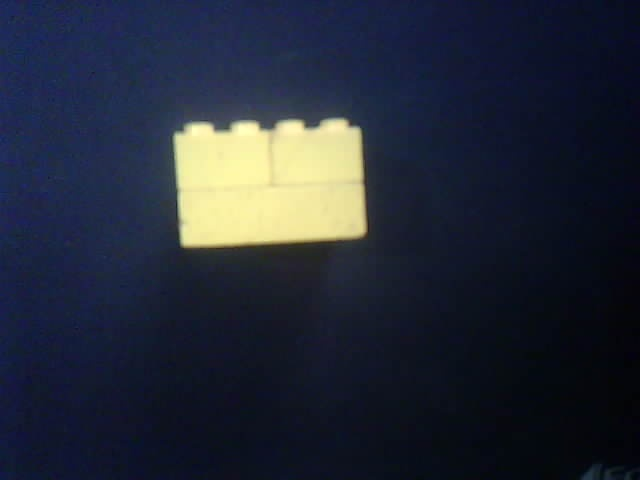lego: (171, 118, 366, 251)
